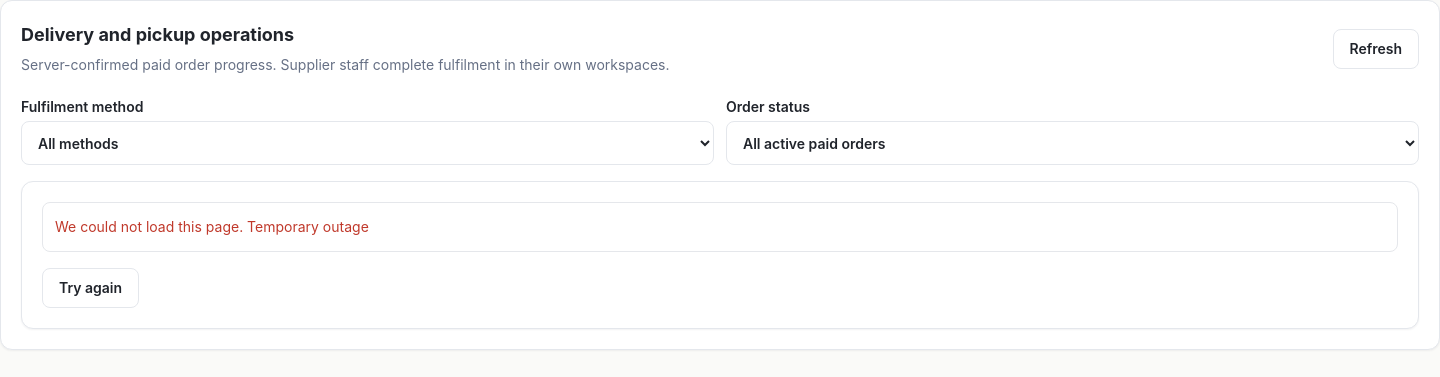
permission-scoped platform delivery operations queue › offers a real retry on read failure without displaying stale records
Expected: the text "We could not load this page. Temporary outage" is shown, [42,202,1398,252]
Click the button "Try again" at coordinates (91, 288), box [42,268,139,308]
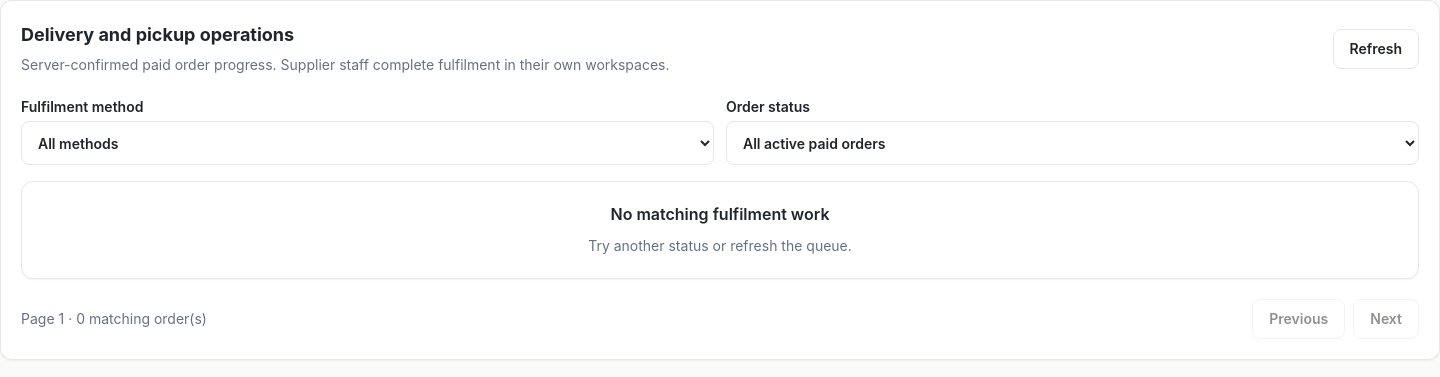
Result: the heading "No matching fulfilment work" is shown at [610,204,830,224]
